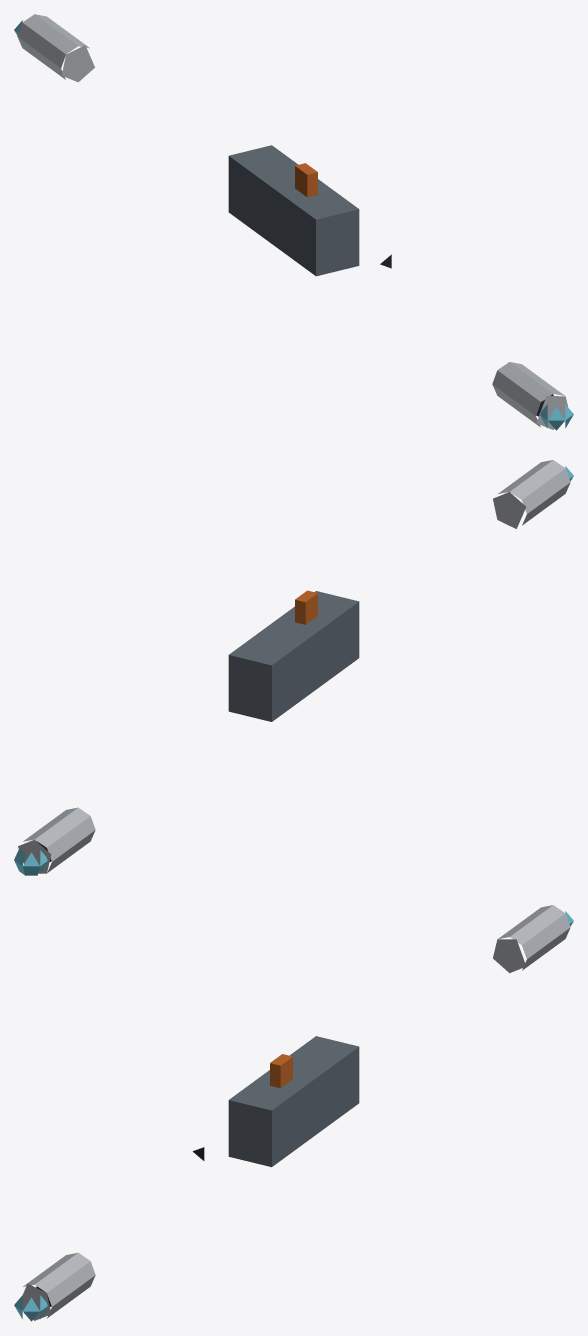
Rendered from bo-rifle.lod.glb.
3 views of the same model, one above another, from view 1: azimuth 30°, elevation 25°; view 2: azimuth 150°, elevation 25°; view 3: azimuth 330°, elevation 25° (orthographic).
Parts seen in each view (by area): view 1: m; view 2: m; view 3: m.
Boxes of the visible parts, <box> form: m: <box>14,14,573,430</box>; m: <box>14,460,573,875</box>; m: <box>14,905,573,1321</box>.
Size of the model in its own units: 0.0437 by 0.0777 by 0.95.
